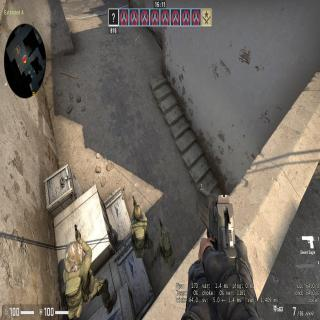CT-Body: (61, 228, 118, 320), (130, 193, 156, 271), (158, 221, 176, 269)
CT-Head: (64, 242, 84, 271), (161, 227, 171, 241), (133, 206, 141, 220)
